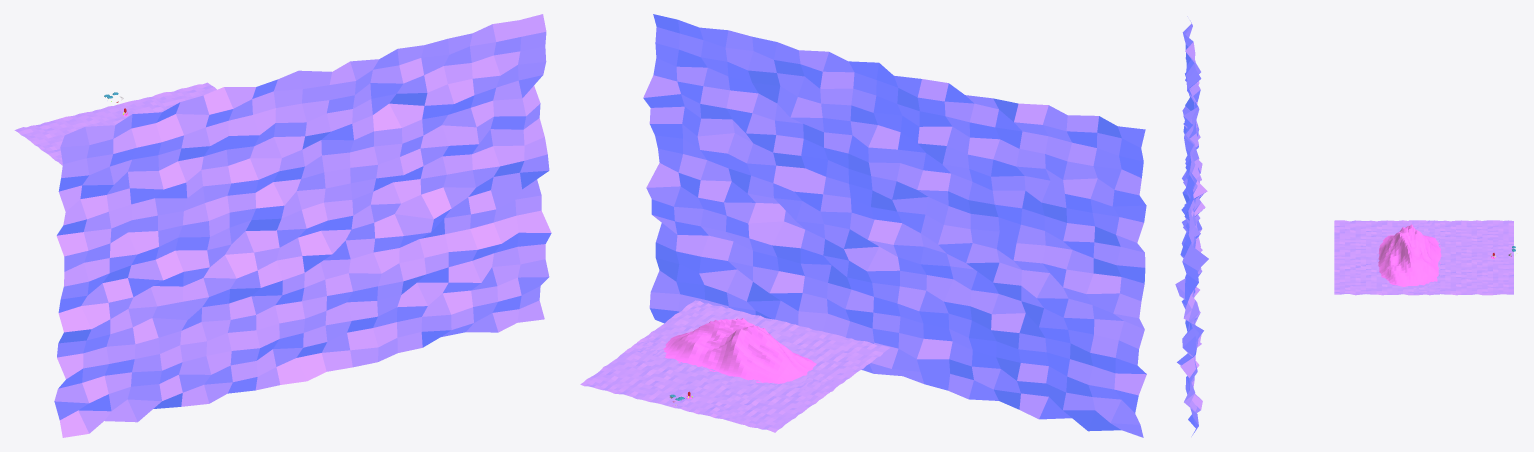
File: World Low Poly.dae
3 renders of one model, left to right at view 1: azimuth 30°, elevation 25°; view 2: azimuth 150°, elevation 25°; view 3: azimuth 270°, elevation 25°, orthographic. The views are drawn at different scales.
Visible parts, largest first — view 1: Sky, Sea; view 2: Sky, Sea, Sea.1, Mountain; view 3: Sea, Sky, Sea.1, Mountain.
Boxes of the visible parts, left/top/right/bottom form: Sky: left=54, top=14, right=551, bottom=437; Sea: left=14, top=82, right=216, bottom=164; Sky: left=643, top=14, right=1146, bottom=437; Sea: left=580, top=335, right=842, bottom=432; Sea.1: left=631, top=300, right=890, bottom=397; Mountain: left=663, top=318, right=816, bottom=383; Sea: left=1408, top=220, right=1513, bottom=295; Sky: left=1175, top=16, right=1208, bottom=436; Sea.1: left=1334, top=220, right=1439, bottom=295; Mountain: left=1378, top=224, right=1441, bottom=286.
Size of the model in its own units: 1107634 by 666274 by 870535.
